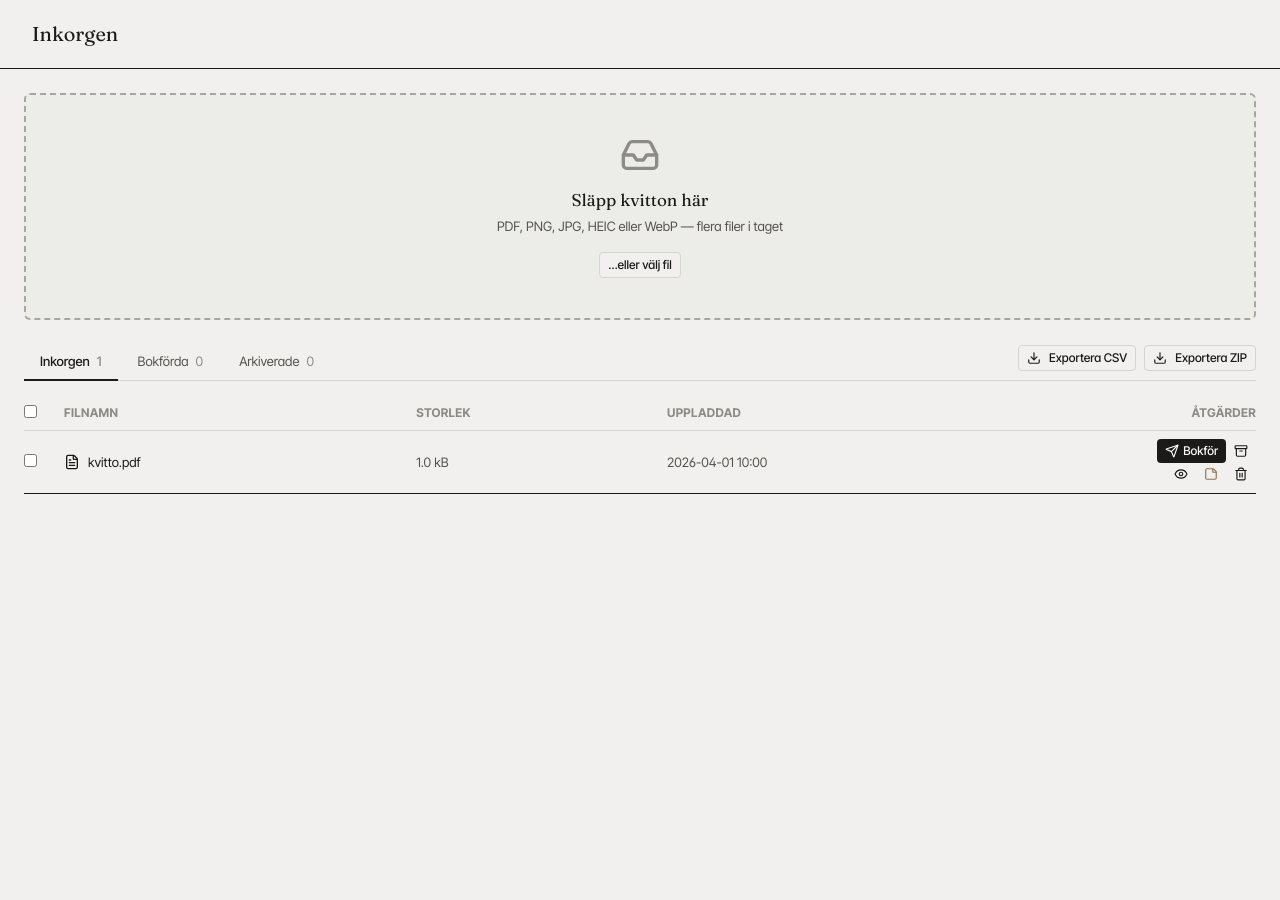
Test: PageInbox › VS-126 visar notes-knapp på varje row + öppnar dialog
Click the button with test id "inbox-row-notes-7" at (1211, 474), box [1196,463,1226,485]
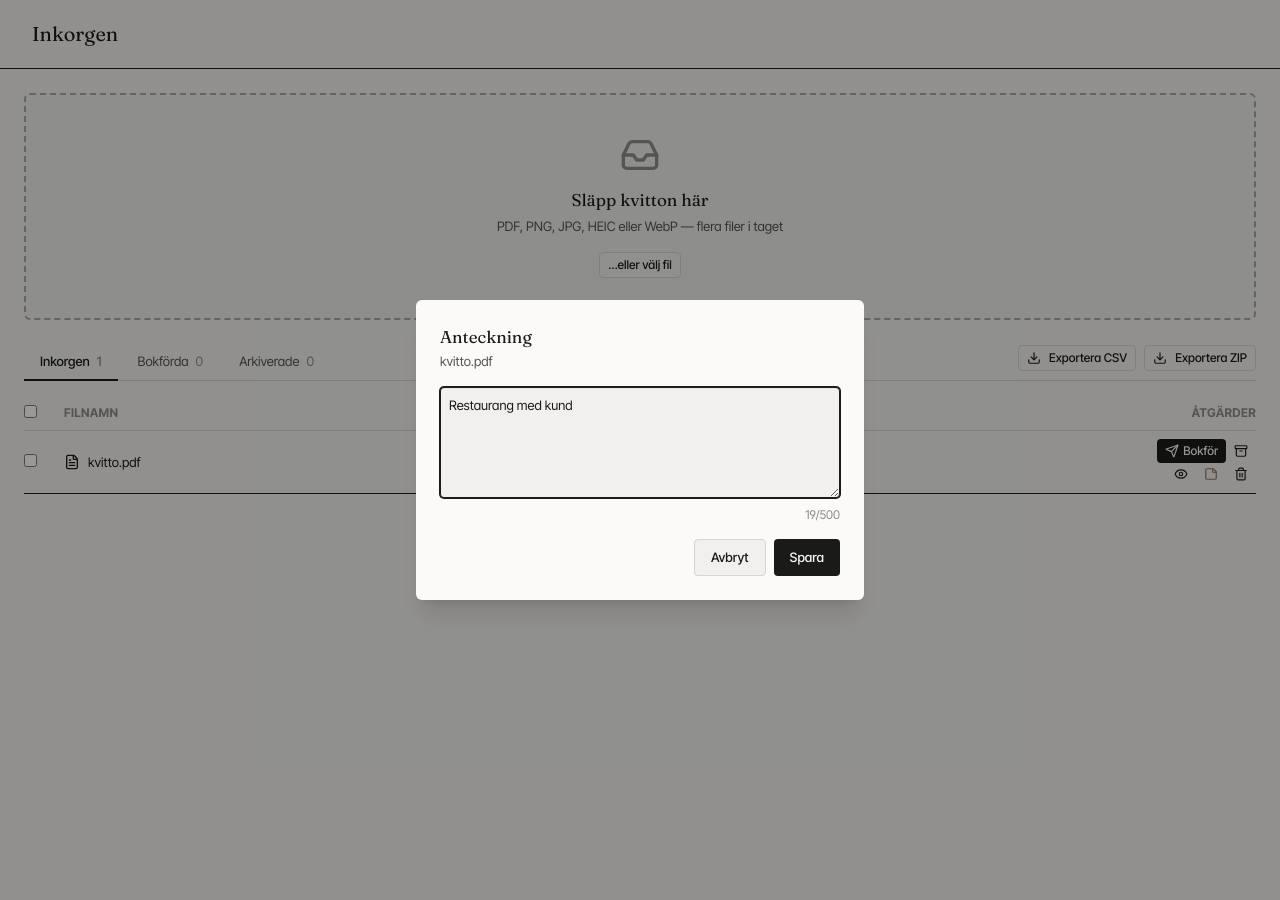
Expected: the dialog with test id "receipt-notes-dialog" is shown, [416,300,864,600]
Expected: the text box with test id "receipt-notes-textarea" holds "Restaurang med kund", [440,387,840,498]
